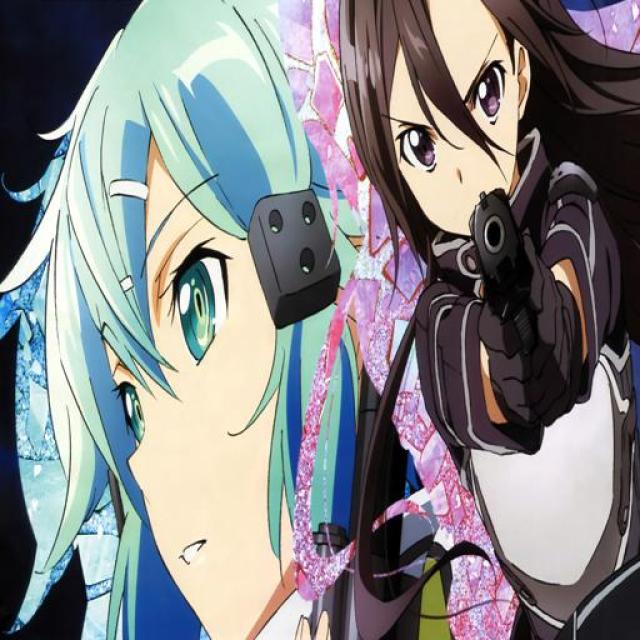pistol: (456, 174, 562, 416)
